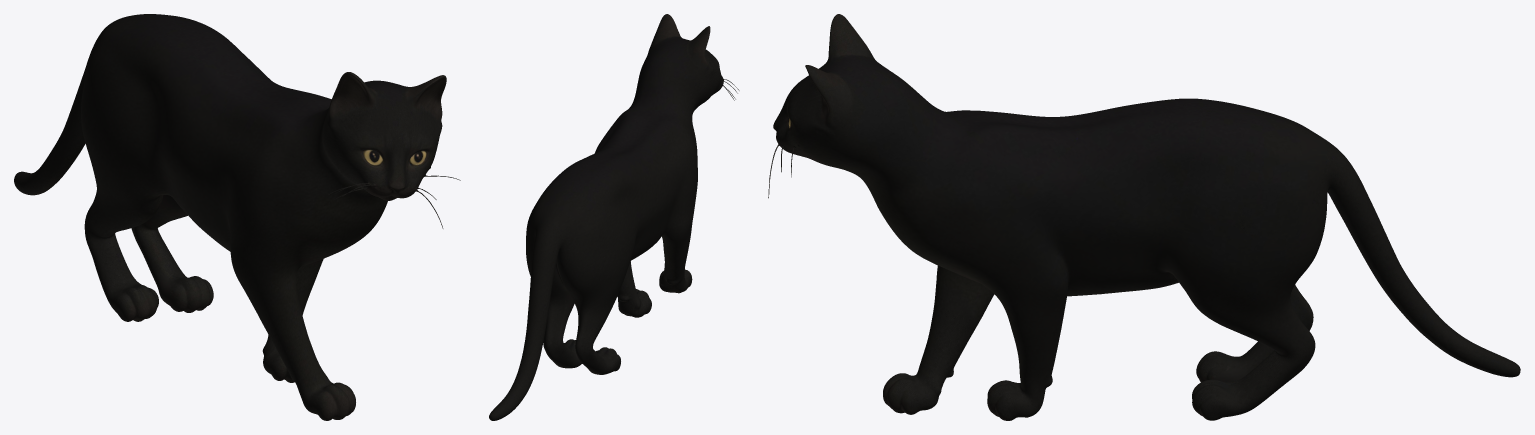
Rendered from sora.glb.
3 views of the same model, side by side, from view 1: azimuth 30°, elevation 25°; view 2: azimuth 150°, elevation 25°; view 3: azimuth 270°, elevation 25° (orthographic). The views are drawn at different scales.
Size of the model in its own units: 0.1246 by 0.304 by 0.5316.
1 material, 1 textured.
